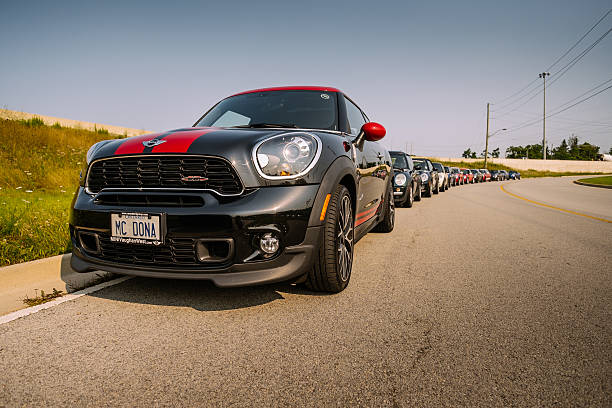licence: (107, 208, 164, 247)
